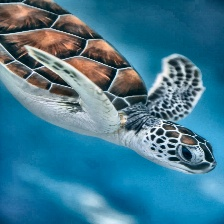seaturtle: (20, 22, 216, 174)
